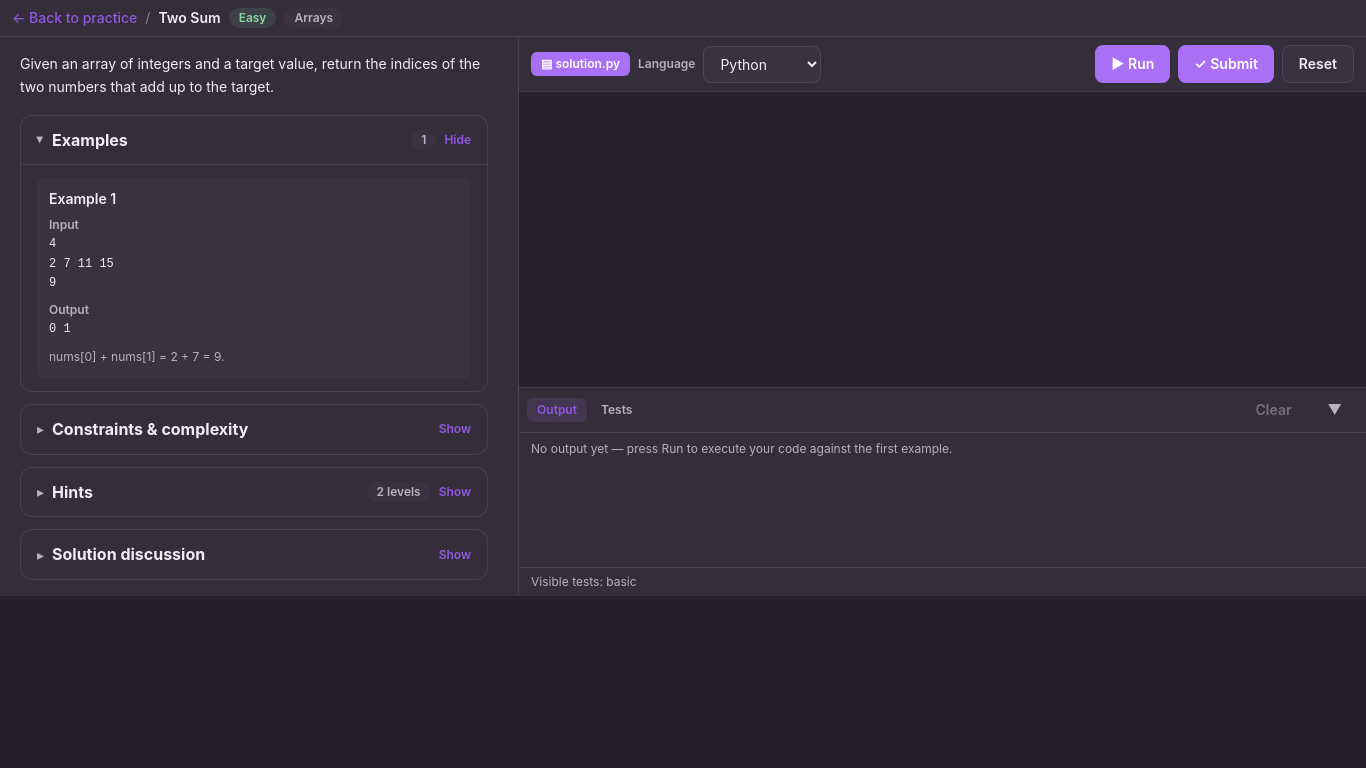
it: DsaProblemPage language selector (all 8 languages) › sends the selected language with the submit request
The image size is (1366, 768).
Select "Java" in the dropdown labelled "Language". click: (762, 64)
box: [703, 46, 821, 82]
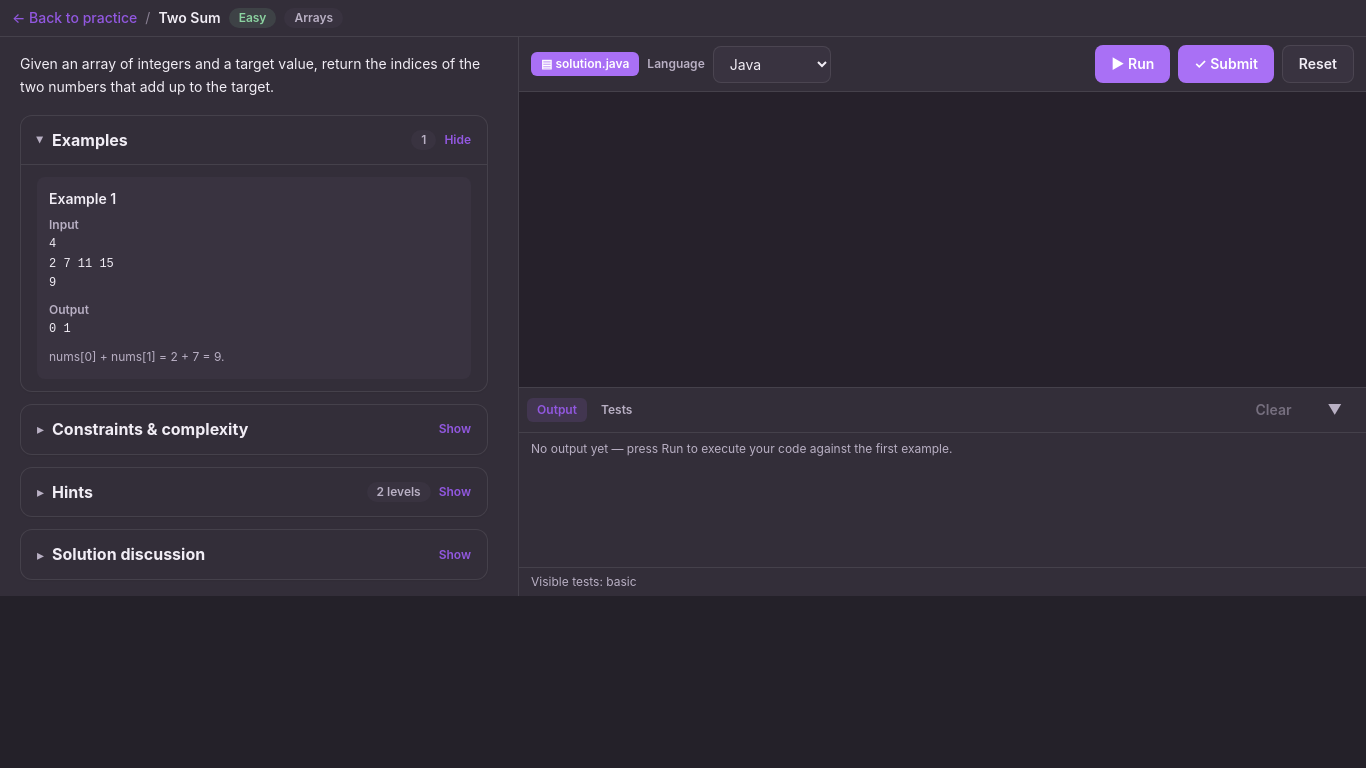
Click the button "✓ Submit". click: (1226, 64)
box: [1178, 45, 1274, 83]
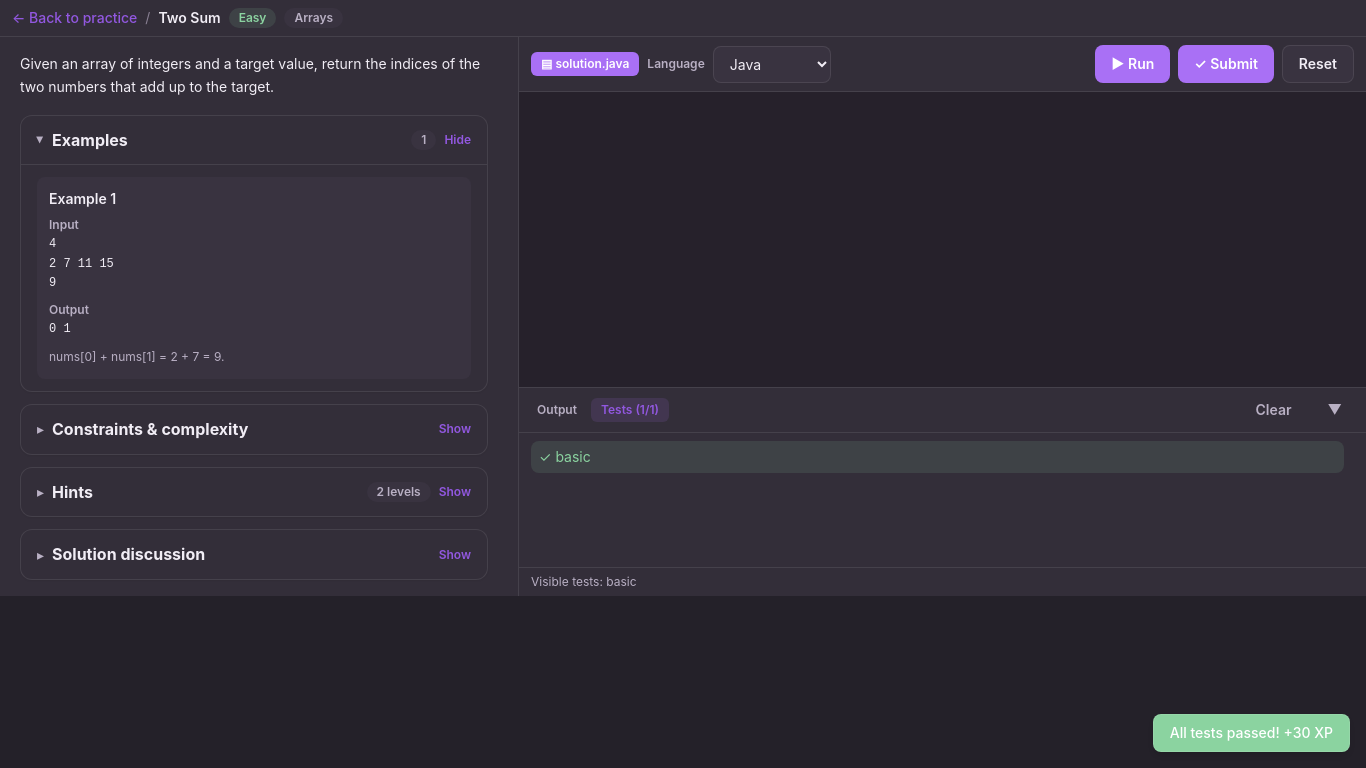
Now the tab "Tests (1/1)" is shown, box [591, 398, 669, 422]
